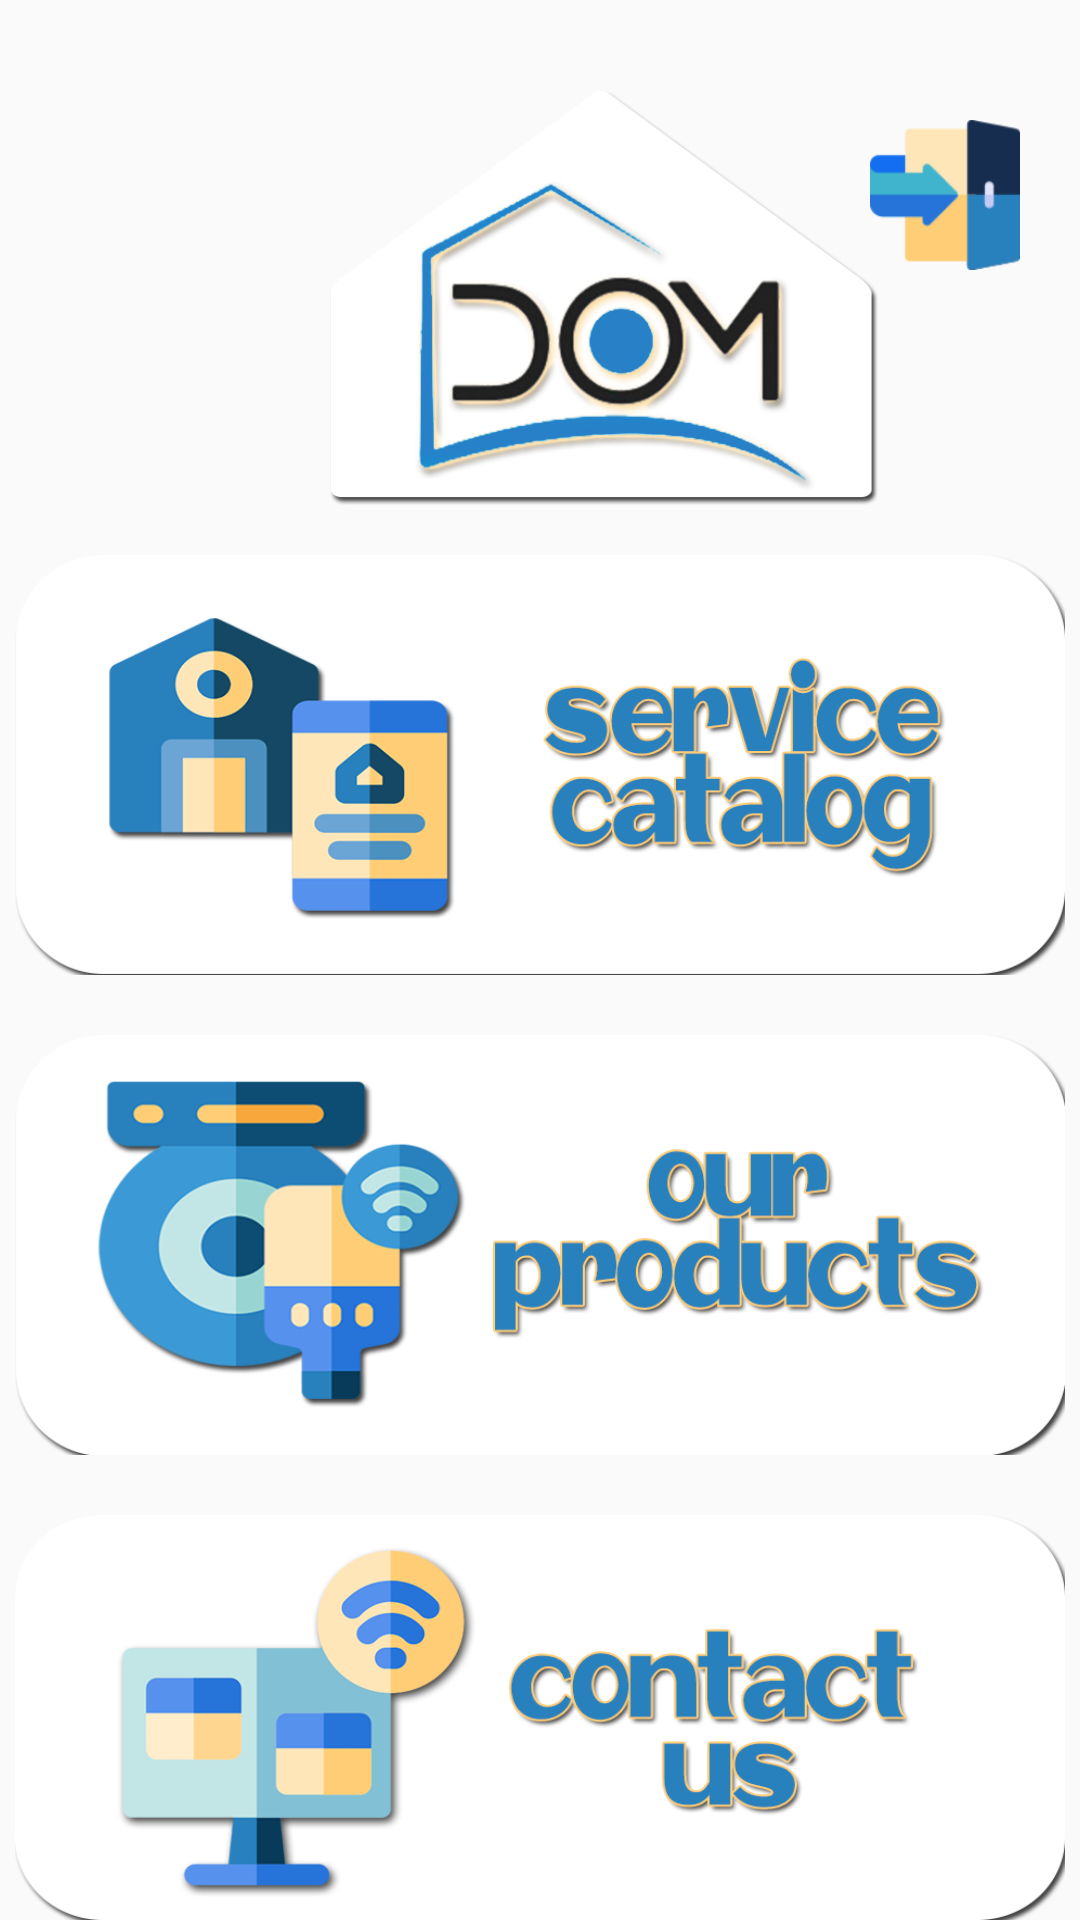

Icons on this 1080*1920 Android screen, each with the point to tap as point (x, y):
quit: point (945, 195)
